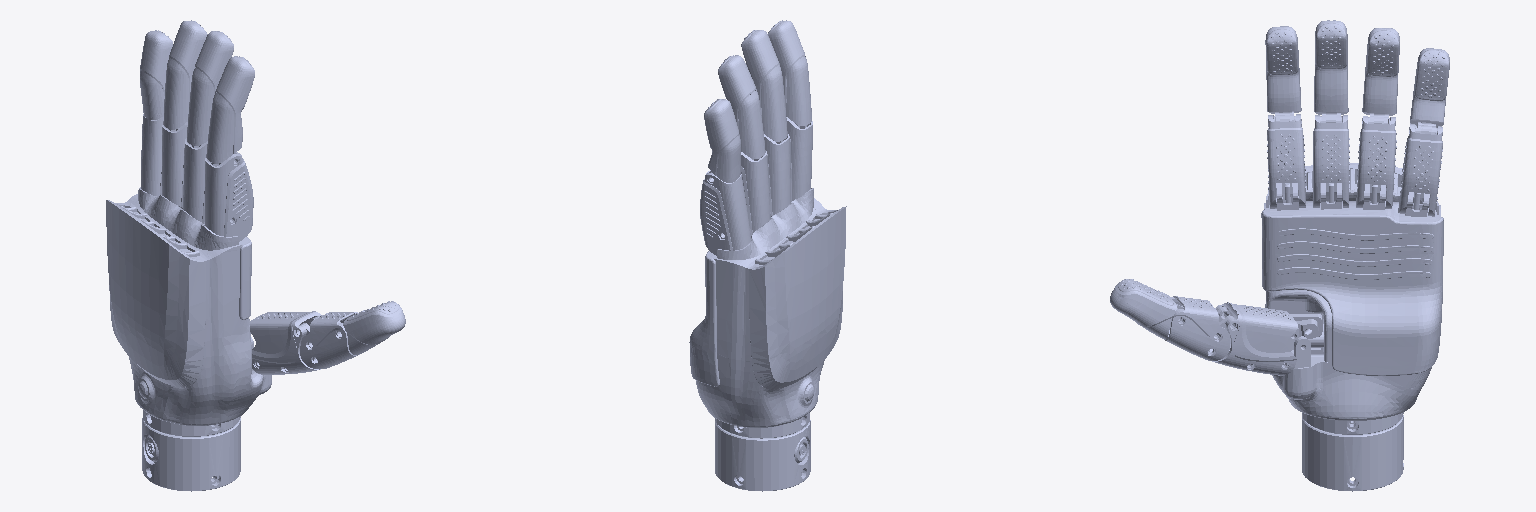
The robot description file, URDF, robot "urdf_left_12_20":
<?xml version="1.0" encoding="utf-8"?>
<!-- This URDF was automatically created by SolidWorks to URDF Exporter! Originally created by [author] ([email redacted]) 
     Commit Version: 1.6.0-4-g7f85cfe  Build Version: 1.6.7995.38578
     For more information, please see http://wiki.ros.org/sw_urdf_exporter -->
<robot
  name="urdf_left_12_20" xmlns:xacro="http://ros.org/wiki/xacro">
  
    <link name="world"/>

    <joint name="L_hand_base_joint" type="fixed">
      <origin
      xyz="0.5 0.5 0.001"
      rpy="3.14  0 -1.57" />
      <parent link="world"/>
      <child link="base_link"/>
    </joint>
  
  <link
    name="base_link">
    <inertial>
      <origin
        xyz="-5.81855257230368E-05 0.0036855956860619 -0.0826153899028331"
        rpy="0 0 0" />
      <mass
        value="0.260034351097693" />
      <inertia
        ixx="0.000223659755666589"
        ixy="-1.13436481934473E-06"
        ixz="5.34309354519849E-07"
        iyy="0.000266799681483547"
        iyz="1.40944118648867E-05"
        izz="0.000132857769181899" />
    </inertial>
    <visual>
      <origin
        xyz="0 0 0"
        rpy="0 0 0" />
      <geometry>
        <mesh
          filename="inspire/meshes_left/base_link.STL" />
      </geometry>
      <material
        name="">
        <color
          rgba="0.792156862745098 0.819607843137255 0.933333333333333 1" />
      </material>
    </visual>
    <collision>
      <origin
        xyz="0 0 0"
        rpy="0 0 0" />
      <geometry>
        <mesh
          filename="inspire/meshes_left/base_link.STL" />
      </geometry>
    </collision>
  </link>
  <link
    name="left_thumb_1">
    <inertial>
      <origin
        xyz="0.00178423404495211 -0.000649404577309123 -0.0031358931043441"
        rpy="0 0 0" />
      <mass
        value="0.00115518743162309" />
      <inertia
        ixx="5.98912200501135E-08"
        ixy="-8.04315731947437E-09"
        ixz="-3.29346919841095E-09"
        iyy="4.07201234589857E-08"
        iyz="1.19872544716431E-09"
        izz="6.18161684388651E-08" />
    </inertial>
    <visual>
      <origin
        xyz="0 0 0"
        rpy="0 0 0" />
      <geometry>
        <mesh
          filename="inspire/meshes_left/left_thumb_1.STL" />
      </geometry>
      <material
        name="">
        <color
          rgba="0.792156862745098 0.819607843137255 0.933333333333333 1" />
      </material>
    </visual>
    <collision>
      <origin
        xyz="0 0 0"
        rpy="0 0 0" />
      <geometry>
        <mesh
          filename="inspire/meshes_left/left_thumb_1.STL" />
      </geometry>
    </collision>
  </link>
  <joint
    name="left_thumb_1_joint"
    type="revolute">
    <origin
      xyz="0.0269 -0.02101 -0.07075"
      rpy="0 0 0" />
    <parent
      link="base_link" />
    <child
      link="left_thumb_1" />
    <axis
      xyz="0 0 -1" />
    <limit
      lower="0"
      upper="1.15"
      effort="10"
      velocity="1" />
  </joint>
  <link
    name="left_thumb_2">
    <inertial>
      <origin
        xyz="0.0141077165126408 0.013272947664556 0.00905027694248729"
        rpy="0 0 0" />
      <mass
        value="0.016" />
      <inertia
        ixx="1.06585698719649E-06"
        ixy="-7.62263321516971E-08"
        ixz="2.95033226564006E-11"
        iyy="1.06558155578278E-06"
        iyz="1.55271585897891E-11"
        izz="1.39709651951733E-06" />
    </inertial>
    <visual>
      <origin
        xyz="0 0 0"
        rpy="0 0 0" />
      <geometry>
        <mesh
          filename="inspire/meshes_left/left_thumb_2.STL" />
      </geometry>
      <material
        name="">
        <color
          rgba="0.792156862745098 0.819607843137255 0.933333333333333 1" />
      </material>
    </visual>
    <collision>
      <origin
        xyz="0 0 0"
        rpy="0 0 0" />
      <geometry>
        <mesh
          filename="inspire/meshes_left/left_thumb_2.STL" />
      </geometry>
    </collision>
  </link>
  <joint
    name="left_thumb_2_joint"
    type="revolute">
    <origin
      xyz="0.0063016 -0.011924 -0.00125"
      rpy="-1.5708 0 -0.34907" />
    <parent
      link="left_thumb_1" />
    <child
      link="left_thumb_2" />
    <axis
      xyz="0 0 1" />
    <limit
      lower="0"
      upper="0.55"
      effort="10"
      velocity="1" />
  </joint>
  <link
    name="left_thumb_3">
    <inertial>
      <origin
        xyz="0.0175210608796189 -0.000458783419545392 0.00589186777098984"
        rpy="0 0 0" />
      <mass
        value="0.012" />
      <inertia
        ixx="4.67948369620491E-07"
        ixy="-4.4974688607358E-08"
        ixz="1.01425359574474E-11"
        iyy="3.98794196148187E-07"
        iyz="2.07037920898898E-10"
        izz="4.24723917424999E-07" />
    </inertial>
    <visual>
      <origin
        xyz="0 0 0"
        rpy="0 0 0" />
      <geometry>
        <mesh
          filename="inspire/meshes_left/left_thumb_3.STL" />
      </geometry>
      <material
        name="">
        <color
          rgba="0.792156862745098 0.819607843137255 0.933333333333333 1" />
      </material>
    </visual>
    <collision>
      <origin
        xyz="0 0 0"
        rpy="0 0 0" />
      <geometry>
        <mesh
          filename="inspire/meshes_left/left_thumb_3.STL" />
      </geometry>
    </collision>
  </link>
  <joint
    name="left_thumb_3_joint"
    type="revolute">
    <origin
      xyz="0.026828 0.02583 0.00315"
      rpy="0 0 0" />
    <parent
      link="left_thumb_2" />
    <child
      link="left_thumb_3" />
    <axis
      xyz="0 0 1" />
    <limit
      lower="0"
      upper="3.14"
      effort="10"
      velocity="1" />
    <mimic
        joint="left_thumb_2_joint"
        multiplier="0.60"
        offset="0" />
  </joint>
  <link
    name="left_thumb_4">
    <inertial>
      <origin
        xyz="0.0159972574626049 0.0063105797700872 0.0073433144647696"
        rpy="0 0 0" />
      <mass
        value="0.01" />
      <inertia
        ixx="6.4362640059723E-07"
        ixy="-2.57376746969386E-07"
        ixz="-8.63129696542143E-10"
        iyy="7.63678708562786E-07"
        iyz="-7.21288836303217E-10"
        izz="9.2570163408105E-07" />
    </inertial>
    <visual>
      <origin
        xyz="0 0 0"
        rpy="0 0 0" />
      <geometry>
        <mesh
          filename="inspire/meshes_left/left_thumb_4.STL" />
      </geometry>
      <material
        name="">
        <color
          rgba="0.792156862745098 0.819607843137255 0.933333333333333 1" />
      </material>
    </visual>
    <collision>
      <origin
        xyz="0 0 0"
        rpy="0 0 0" />
      <geometry>
        <mesh
          filename="inspire/meshes_left/left_thumb_4.STL" />
      </geometry>
    </collision>
  </link>
  <joint
    name="left_thumb_4_joint"
    type="revolute">
    <origin
      xyz="0.027027 0.0069965 -0.00145"
      rpy="0 0 0" />
    <parent
      link="left_thumb_3" />
    <child
      link="left_thumb_4" />
    <axis
      xyz="0 0 1" />
    <limit
      lower="0"
      upper="3.14"
      effort="10"
      velocity="1" />
    <mimic
        joint="left_thumb_2_joint"
        multiplier="0.8"
        offset="0" />
  </joint>
  <link
    name="left_index_1">
    <inertial>
      <origin
        xyz="-0.00183599258071257 0.0123544163382434 -0.00665152565125451"
        rpy="0 0 0" />
      <mass
        value="0.0071995003148682" />
      <inertia
        ixx="1.28363093823079E-06"
        ixy="4.22091506924093E-08"
        ixz="-1.1741465013013E-12"
        iyy="5.79447850871435E-07"
        iyz="-8.63816965731366E-11"
        izz="1.32914845722975E-06" />
    </inertial>
    <visual>
      <origin
        xyz="0 0 0"
        rpy="0 0 0" />
      <geometry>
        <mesh
          filename="inspire/meshes_left/left_index_1.STL" />
      </geometry>
      <material
        name="">
        <color
          rgba="0.792156862745098 0.819607843137255 0.933333333333333 1" />
      </material>
    </visual>
    <collision>
      <origin
        xyz="0 0 0"
        rpy="0 0 0" />
      <geometry>
        <mesh
          filename="inspire/meshes_left/left_index_1.STL" />
      </geometry>
    </collision>
  </link>
  <joint
    name="left_index_1_joint"
    type="revolute">
    <origin
      xyz="0.025387 -0.00056467 -0.15686"
      rpy="-1.6057 0 1.5708" />
    <parent
      link="base_link" />
    <child
      link="left_index_1" />
    <axis
      xyz="0 0 1" />
    <limit
      lower="0"
      upper="1.6"
      effort="10"
      velocity="1" />
  </joint>
  <link
    name="left_index_2">
    <inertial>
      <origin
        xyz="0.000405420051948283 0.0257003783460073 -0.00610830787560272"
        rpy="0 0 0" />
      <mass
        value="0.00968688267109518" />
      <inertia
        ixx="2.25563043691857E-06"
        ixy="4.11282885240034E-07"
        ixz="3.87338024122588E-10"
        iyy="3.91279806505403E-07"
        iyz="-2.76559043550419E-09"
        izz="2.30247359295784E-06" />
    </inertial>
    <visual>
      <origin
        xyz="0 0 0"
        rpy="0 0 0" />
      <geometry>
        <mesh
          filename="inspire/meshes_left/left_index_2.STL" />
      </geometry>
      <material
        name="">
        <color
          rgba="0.792156862745098 0.819607843137255 0.933333333333333 1" />
      </material>
    </visual>
    <collision>
      <origin
        xyz="0 0 0"
        rpy="0 0 0" />
      <geometry>
        <mesh
          filename="inspire/meshes_left/left_index_2.STL" />
      </geometry>
    </collision>
  </link>
  <joint
    name="left_index_2_joint"
    type="revolute">
    <origin
      xyz="-0.0016312 0.032734 -0.00055"
      rpy="0 0 0" />
    <parent
      link="left_index_1" />
    <child
      link="left_index_2" />
    <axis
      xyz="0 0 1" />
    <limit
      lower="0"
      upper="3.14"
      effort="10"
      velocity="1" />
    <mimic
        joint="left_index_1_joint"
        multiplier="1.05"
        offset="0" />
  </joint>
  <link
    name="left_middle_1">
    <inertial>
      <origin
        xyz="-0.00229271394242232 0.0122778605414752 -0.00665151068667683"
        rpy="0 0 0" />
      <mass
        value="0.00719950322487974" />
      <inertia
        ixx="1.27951858905779E-06"
        ixy="6.81813021711596E-08"
        ixz="1.58551121583499E-12"
        iyy="5.83543537428452E-07"
        iyz="-8.56179612608701E-11"
        izz="1.32913234511164E-06" />
    </inertial>
    <visual>
      <origin
        xyz="0 0 0"
        rpy="0 0 0" />
      <geometry>
        <mesh
          filename="inspire/meshes_left/left_middle_1.STL" />
      </geometry>
      <material
        name="">
        <color
          rgba="0.792156862745098 0.819607843137255 0.933333333333333 1" />
      </material>
    </visual>
    <collision>
      <origin
        xyz="0 0 0"
        rpy="0 0 0" />
      <geometry>
        <mesh
          filename="inspire/meshes_left/left_middle_1.STL" />
      </geometry>
    </collision>
  </link>
  <joint
    name="left_middle_1_joint"
    type="revolute">
    <origin
      xyz="0.0037996 -0.00056467 -0.157"
      rpy="-1.5708 0 1.5708" />
    <parent
      link="base_link" />
    <child
      link="left_middle_1" />
    <axis
      xyz="0 0 1" />
    <limit
      lower="0"
      upper="1.6"
      effort="1"
      velocity="1" />
  </joint>
  <link
    name="left_middle_2">
    <inertial>
      <origin
        xyz="7.51983994427274E-05 0.027448753770842 -0.00610022997575017"
        rpy="0 0 0" />
      <mass
        value="0.0104611931926301" />
      <inertia
        ixx="2.75831931773332E-06"
        ixy="4.66412841401028E-07"
        ixz="7.35766561775226E-12"
        iyy="4.22466538741155E-07"
        iyz="-1.79608426686769E-11"
        izz="2.80722617348706E-06" />
    </inertial>
    <visual>
      <origin
        xyz="0 0 0"
        rpy="0 0 0" />
      <geometry>
        <mesh
          filename="inspire/meshes_left/left_middle_2.STL" />
      </geometry>
      <material
        name="">
        <color
          rgba="0.792156862745098 0.819607843137255 0.933333333333333 1" />
      </material>
    </visual>
    <collision>
      <origin
        xyz="0 0 0"
        rpy="0 0 0" />
      <geometry>
        <mesh
          filename="inspire/meshes_left/left_middle_2.STL" />
      </geometry>
    </collision>
  </link>
  <joint
    name="left_middle_2_joint"
    type="revolute">
    <origin
      xyz="-0.0028436 0.032651 -0.00055"
      rpy="0 0 0" />
    <parent
      link="left_middle_1" />
    <child
      link="left_middle_2" />
    <axis
      xyz="0 0 1" />
    <limit
      lower="0"
      upper="3.14"
      effort="10"
      velocity="1" />
    <mimic
        joint="left_middle_1_joint"
        multiplier="1.05"
        offset="0" />
  </joint>
  <link
    name="left_ring_1">
    <inertial>
      <origin
        xyz="-0.00240530428455066 0.0122563079467745 -0.00665150968297497"
        rpy="0 0 0" />
      <mass
        value="0.00719949770218712" />
      <inertia
        ixx="1.27820682409824E-06"
        ixy="7.45572429780093E-08"
        ixz="2.25718181808859E-12"
        iyy="5.84853511073517E-07"
        iyz="-8.56222330411309E-11"
        izz="1.32913088941838E-06" />
    </inertial>
    <visual>
      <origin
        xyz="0 0 0"
        rpy="0 0 0" />
      <geometry>
        <mesh
          filename="inspire/meshes_left/left_ring_1.STL" />
      </geometry>
      <material
        name="">
        <color
          rgba="0.792156862745098 0.819607843137255 0.933333333333333 1" />
      </material>
    </visual>
    <collision>
      <origin
        xyz="0 0 0"
        rpy="0 0 0" />
      <geometry>
        <mesh
          filename="inspire/meshes_left/left_ring_1.STL" />
      </geometry>
    </collision>
  </link>
  <joint
    name="left_ring_1_joint"
    type="revolute">
    <origin
      xyz="-0.017813 -0.00056467 -0.15614"
      rpy="-1.5184 0 1.5708" />
    <parent
      link="base_link" />
    <child
      link="left_ring_1" />
    <axis
      xyz="0 0 1" />
    <limit
      lower="0"
      upper="1.6"
      effort="10"
      velocity="1" />
  </joint>
  <link
    name="left_ring_2">
    <inertial>
      <origin
        xyz="0.000667145407605998 0.0256949163202511 -0.00610829894053159"
        rpy="0 0 0" />
      <mass
        value="0.00968685177133057" />
      <inertia
        ixx="2.26381138740299E-06"
        ixy="3.92210300202205E-07"
        ixz="3.58404653503583E-10"
        iyy="3.83095000534084E-07"
        iyz="-2.77027363965469E-09"
        izz="2.30247104599333E-06" />
    </inertial>
    <visual>
      <origin
        xyz="0 0 0"
        rpy="0 0 0" />
      <geometry>
        <mesh
          filename="inspire/meshes_left/left_ring_2.STL" />
      </geometry>
      <material
        name="">
        <color
          rgba="0.792156862745098 0.819607843137255 0.933333333333333 1" />
      </material>
    </visual>
    <collision>
      <origin
        xyz="0 0 0"
        rpy="0 0 0" />
      <geometry>
        <mesh
          filename="inspire/meshes_left/left_ring_2.STL" />
      </geometry>
    </collision>
  </link>
  <joint
    name="left_ring_2_joint"
    type="revolute">
    <origin
      xyz="-0.0031431 0.032624 -0.00055"
      rpy="0 0 0" />
    <parent
      link="left_ring_1" />
    <child
      link="left_ring_2" />
    <axis
      xyz="0 0 1" />
    <limit
      lower="0"
      upper="3.14"
      effort="10"
      velocity="1" />
    <mimic
        joint="left_ring_1_joint"
        multiplier="1.05"
        offset="0" />
  </joint>
  <link
    name="left_little_1">
    <inertial>
      <origin
        xyz="-0.00316889023513399 0.0120814769898197 -0.00665148964848"
        rpy="0 0 0" />
      <mass
        value="0.0071994553320001" />
      <inertia
        ixx="1.26614239360362E-06"
        ixy="1.17349328114653E-07"
        ixz="6.69925886240907E-12"
        iyy="5.96905140854994E-07"
        iyz="-8.54914063893311E-11"
        izz="1.32912203576944E-06" />
    </inertial>
    <visual>
      <origin
        xyz="0 0 0"
        rpy="0 0 0" />
      <geometry>
        <mesh
          filename="inspire/meshes_left/left_little_1.STL" />
      </geometry>
      <material
        name="">
        <color
          rgba="0.792156862745098 0.819607843137255 0.933333333333333 1" />
      </material>
    </visual>
    <collision>
      <origin
        xyz="0 0 0"
        rpy="0 0 0" />
      <geometry>
        <mesh
          filename="inspire/meshes_left/left_little_1.STL" />
      </geometry>
    </collision>
  </link>
  <joint
    name="left_little_1_joint"
    type="revolute">
    <origin
      xyz="-0.039144 -0.00056467 -0.15226"
      rpy="-1.4661 0 1.5708" />
    <parent
      link="base_link" />
    <child
      link="left_little_1" />
    <axis
      xyz="0 0 1" />
    <limit
      lower="0"
      upper="1.6"
      effort="10"
      velocity="1" />
  </joint>
  <link
    name="left_little_2">
    <inertial>
      <origin
        xyz="0.00469503836926433 0.020441957551037 -0.0061004930536056"
        rpy="0 0 0" />
      <mass
        value="0.00759267726265222" />
      <inertia
        ixx="1.27661762368947E-06"
        ixy="7.27034842413144E-08"
        ixz="1.62724400979504E-12"
        iyy="2.31536498425727E-07"
        iyz="-9.71604458446237E-12"
        izz="1.23907231734916E-06" />
    </inertial>
    <visual>
      <origin
        xyz="0 0 0"
        rpy="0 0 0" />
      <geometry>
        <mesh
          filename="inspire/meshes_left/left_little_2.STL" />
      </geometry>
      <material
        name="">
        <color
          rgba="0.792156862745098 0.819607843137255 0.933333333333333 1" />
      </material>
    </visual>
    <collision>
      <origin
        xyz="0 0 0"
        rpy="0 0 0" />
      <geometry>
        <mesh
          filename="inspire/meshes_left/left_little_2.STL" />
      </geometry>
    </collision>
  </link>
  <joint
    name="left_little_2_joint"
    type="revolute">
    <origin
      xyz="-0.005182 0.032363 -0.00055"
      rpy="0 0 0" />
    <parent
      link="left_little_1" />
    <child
      link="left_little_2" />
    <axis
      xyz="0 0 1" />
    <limit
      lower="0"
      upper="3.14"
      effort="10"
      velocity="1" />
    <mimic
        joint="left_little_1_joint"
        multiplier="1.18"
        offset="0" />  
  </joint>
</robot>

--- Facts derived from the render (not from the file) ---
The picture shows the robot from 3 angles, left to right: view 1: azimuth 30°, elevation 25°; view 2: azimuth 150°, elevation 25°; view 3: azimuth 270°, elevation 25°; orthographic projection.
Robot: urdf_left_12_20 — 14 links, 13 joints (12 revolute, 1 fixed); root link world; default pose: every joint at zero.
Visible links, largest first — view 1: base_link, left_index_1, left_thumb_2, left_index_2, left_middle_2, left_ring_2, left_thumb_3, left_little_2, left_thumb_4, left_ring_1, left_middle_1, left_little_1; view 2: base_link, left_little_1, left_middle_2, left_ring_2, left_index_2, left_little_2, left_ring_1, left_middle_1, left_index_1; view 3: base_link, left_thumb_2, left_middle_2, left_ring_2, left_index_2, left_thumb_3, left_index_1, left_ring_1, left_little_1, left_middle_1, left_little_2, left_thumb_4 (+1 smaller).
Link boxes in pixels (x1,y1,x2,y2): base_link: (106,187,271,491); left_index_1: (205,152,253,241); left_thumb_2: (250,311,320,374); left_index_2: (206,56,254,166); left_middle_2: (187,31,233,147); left_ring_2: (163,20,207,131); left_thumb_3: (300,312,359,369); left_little_2: (140,30,172,119); left_thumb_4: (343,301,405,354); left_ring_1: (162,122,187,207); left_middle_1: (183,138,207,223); left_little_1: (141,114,163,195); base_link: (689,188,846,491); left_little_1: (700,170,751,255); left_middle_2: (741,30,787,143); left_ring_2: (718,55,765,160); left_index_2: (768,20,811,128); left_little_2: (704,99,740,182); left_ring_1: (741,152,770,235); left_middle_1: (764,134,790,215); left_index_1: (786,117,812,201); base_link: (1261,163,1443,491); left_thumb_2: (1208,302,1297,375); left_middle_2: (1314,20,1348,122); left_ring_2: (1362,28,1399,123); left_index_2: (1265,26,1301,121); left_thumb_3: (1165,296,1229,360); left_index_1: (1267,114,1305,208); left_ring_1: (1356,116,1396,208); left_little_1: (1398,123,1442,216); left_middle_1: (1313,115,1349,207); left_little_2: (1410,48,1449,133); left_thumb_4: (1110,279,1182,339).
Size in the robot's own frame: 0.0955 by 0.1666 by 0.2469 metres.
Meshes: 13 distinct files referenced, 13 mesh visuals loaded (13 binary STL).